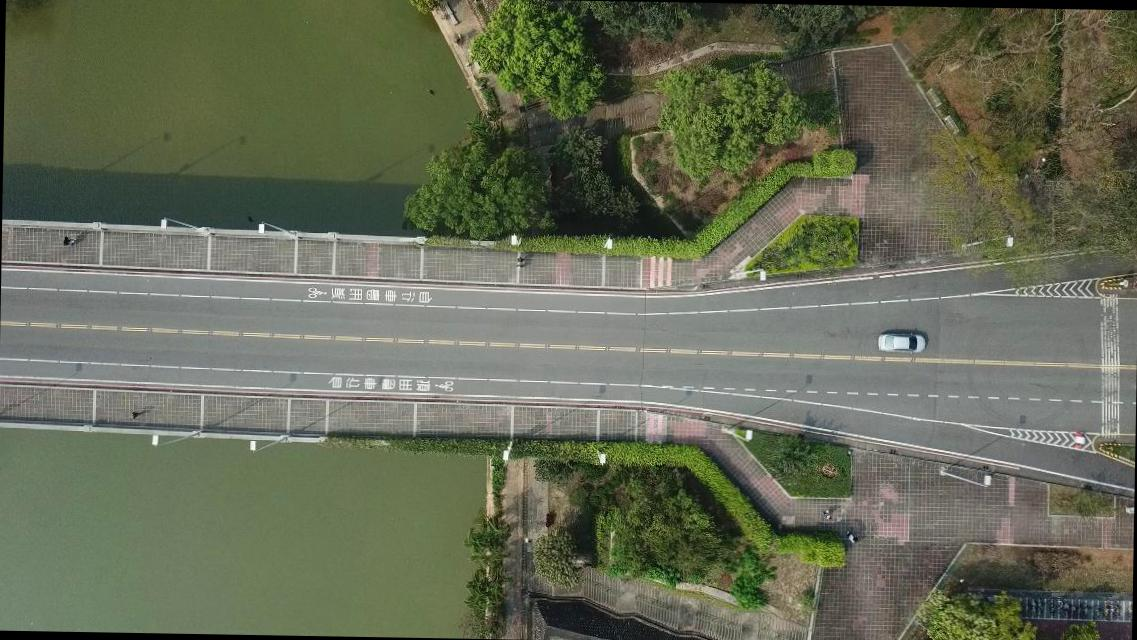vehicle: (878, 332, 926, 354)
